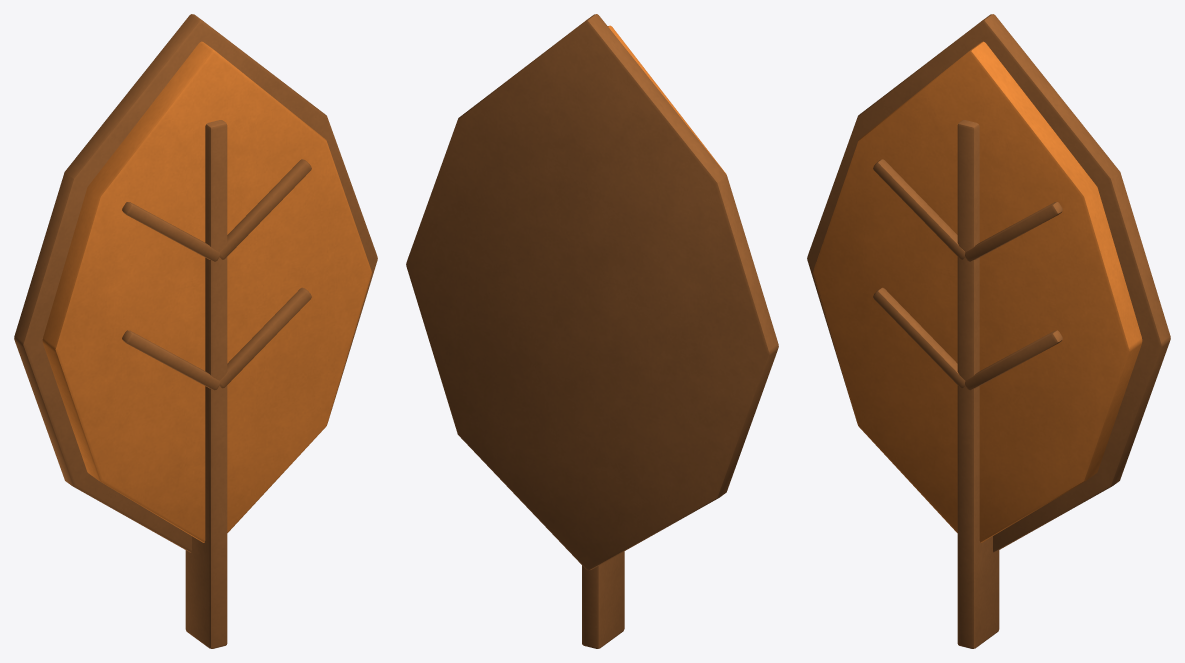
Rendered from icono_hoja.gltf.
The picture shows the model from 3 angles, left to right: view 1: azimuth 30°, elevation 25°; view 2: azimuth 150°, elevation 25°; view 3: azimuth 330°, elevation 25°; orthographic projection. The views are drawn at different scales.
Parts seen in each view (by area): view 1: icono_hoja; view 2: icono_hoja; view 3: icono_hoja.
Part boxes in pixels (left/top/right/bottom): icono_hoja: left=14, top=14, right=377, bottom=648; icono_hoja: left=406, top=14, right=778, bottom=648; icono_hoja: left=807, top=14, right=1170, bottom=648.
Bounding box in the file's own units: 0.7816 × 1.29 × 0.112.
2 materials, 2 textured.
